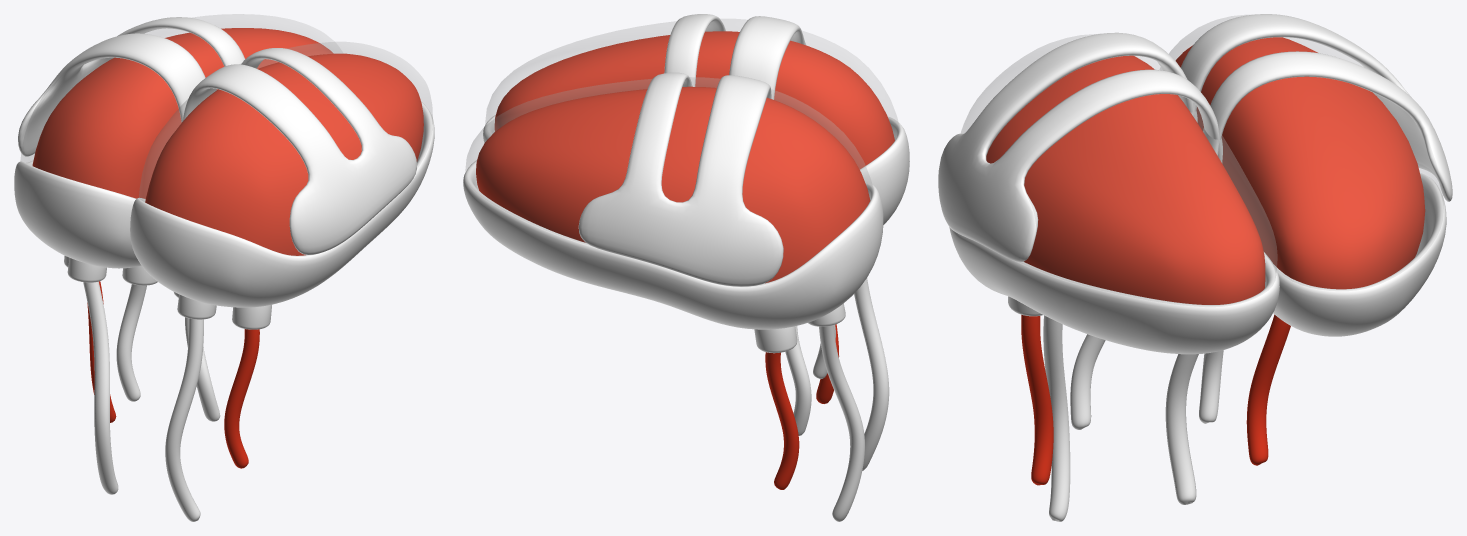
File: robot-brain-3d-animated-icon-425103992118.glb
3 renders of one model, left to right at view 1: azimuth 30°, elevation 25°; view 2: azimuth 150°, elevation 25°; view 3: azimuth 270°, elevation 25°, orthographic. The views are drawn at different scales.
Parts seen in each view (by area): view 1: Cube.020, Cube.121, Cube.023, Cube.022, Cube.122, Cube.021, Cube.024, Cube.025, NurbsPath.005, NurbsPath.003, NurbsPath.004, NurbsPath.006 (+5 smaller); view 2: Cube.023, Cube.122, Cube.025, Cube.024, Cube.020, Cube.121, Cube.022, NurbsPath.005, NurbsPath.003, Cube.021, NurbsPath.002, NurbsPath.006 (+1 smaller); view 3: Cube.020, Cube.121, Cube.023, Cube.122, Cube.022, Cube.021, Cube.025, Cube.024, NurbsPath.003, NurbsPath.004, NurbsPath.005, NurbsPath.002 (+2 smaller).
Part boxes in pixels (x1,y1,x2,y2): Cube.020: (139, 42, 432, 256); Cube.121: (145, 53, 423, 255); Cube.023: (20, 14, 342, 198); Cube.022: (183, 48, 417, 255); Cube.122: (32, 28, 333, 198); Cube.021: (130, 101, 434, 307); Cube.024: (14, 160, 141, 268); Cube.025: (18, 17, 245, 156); NurbsPath.005: (83, 281, 118, 494); NurbsPath.003: (165, 318, 203, 521); NurbsPath.004: (224, 329, 259, 468); NurbsPath.006: (116, 284, 146, 401); Cube.023: (465, 77, 873, 286); Cube.122: (476, 86, 870, 283); Cube.025: (578, 72, 783, 286); Cube.024: (463, 160, 883, 329); Cube.020: (485, 18, 899, 164); Cube.121: (494, 31, 894, 169); Cube.022: (664, 14, 806, 99); NurbsPath.005: (819, 325, 864, 521); NurbsPath.003: (854, 278, 889, 470); Cube.021: (483, 115, 909, 224); NurbsPath.002: (765, 352, 799, 489); NurbsPath.006: (785, 326, 811, 435); Cube.020: (961, 34, 1277, 306); Cube.121: (986, 55, 1265, 304); Cube.023: (1160, 15, 1443, 290); Cube.122: (1175, 37, 1425, 289); Cube.022: (938, 32, 1222, 261); Cube.021: (949, 227, 1279, 354); Cube.025: (1180, 14, 1452, 201); Cube.024: (1273, 173, 1446, 336); NurbsPath.003: (1043, 315, 1070, 521); NurbsPath.004: (1021, 315, 1053, 485); NurbsPath.005: (1165, 354, 1198, 504); NurbsPath.002: (1246, 314, 1290, 465).
Bounding box in the file's own units: 8.31 × 8.94 × 7.89.
